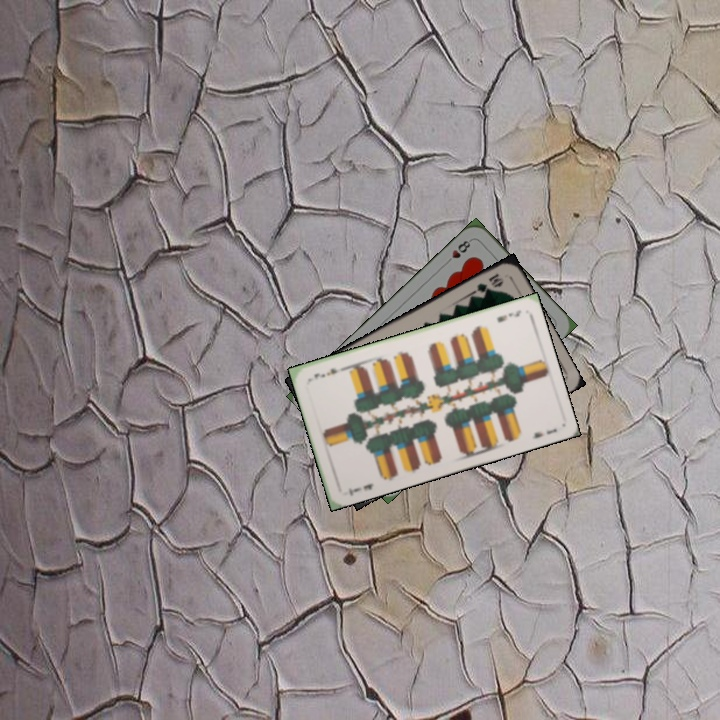E7: (344, 479, 376, 498), (493, 306, 524, 325)
G10: (469, 269, 506, 296)
H8: (441, 235, 474, 267)
